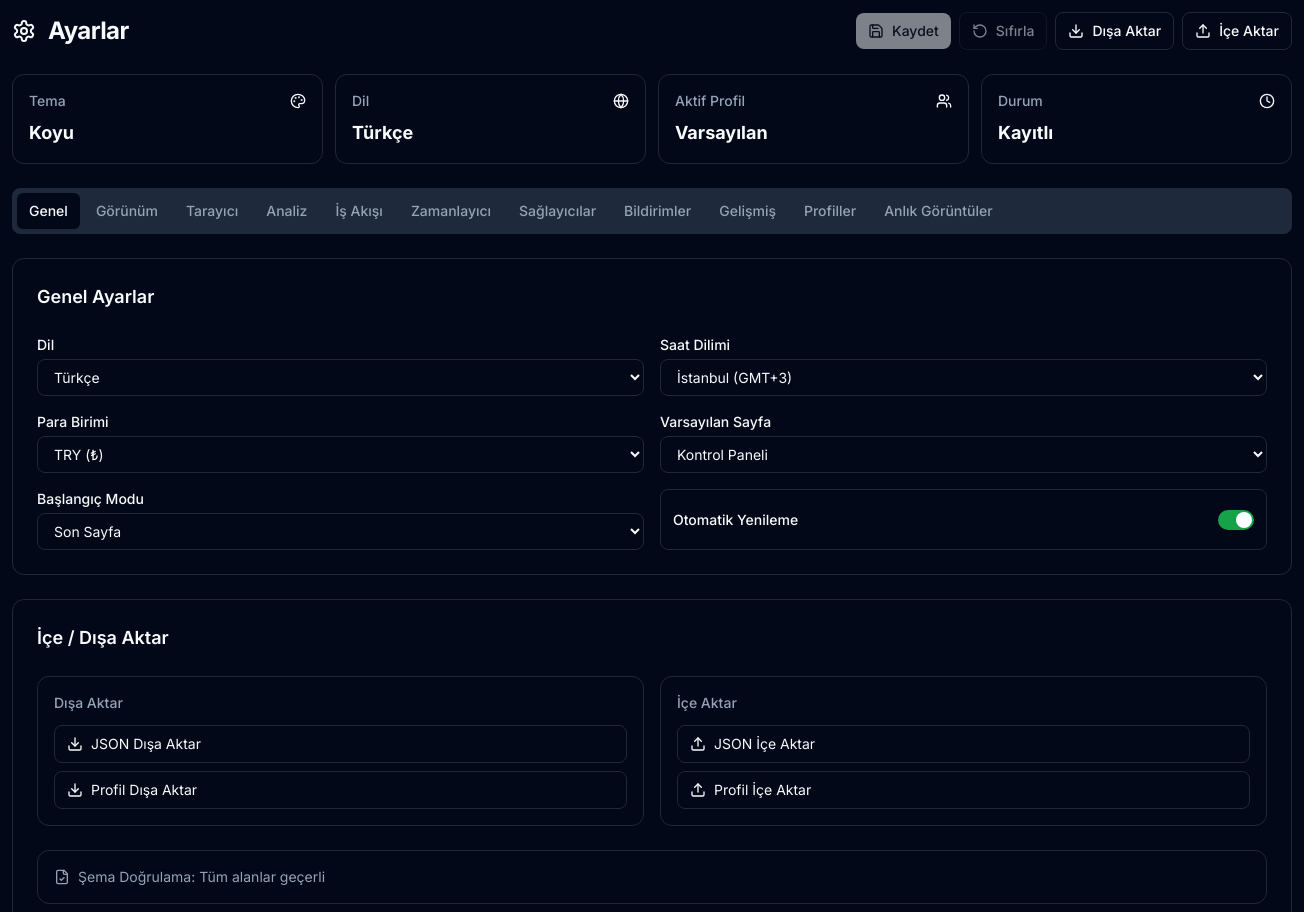
SettingsPage › switches to workflow tab
Click the button "İş Akışı" at (359, 211), box [324, 193, 395, 229]
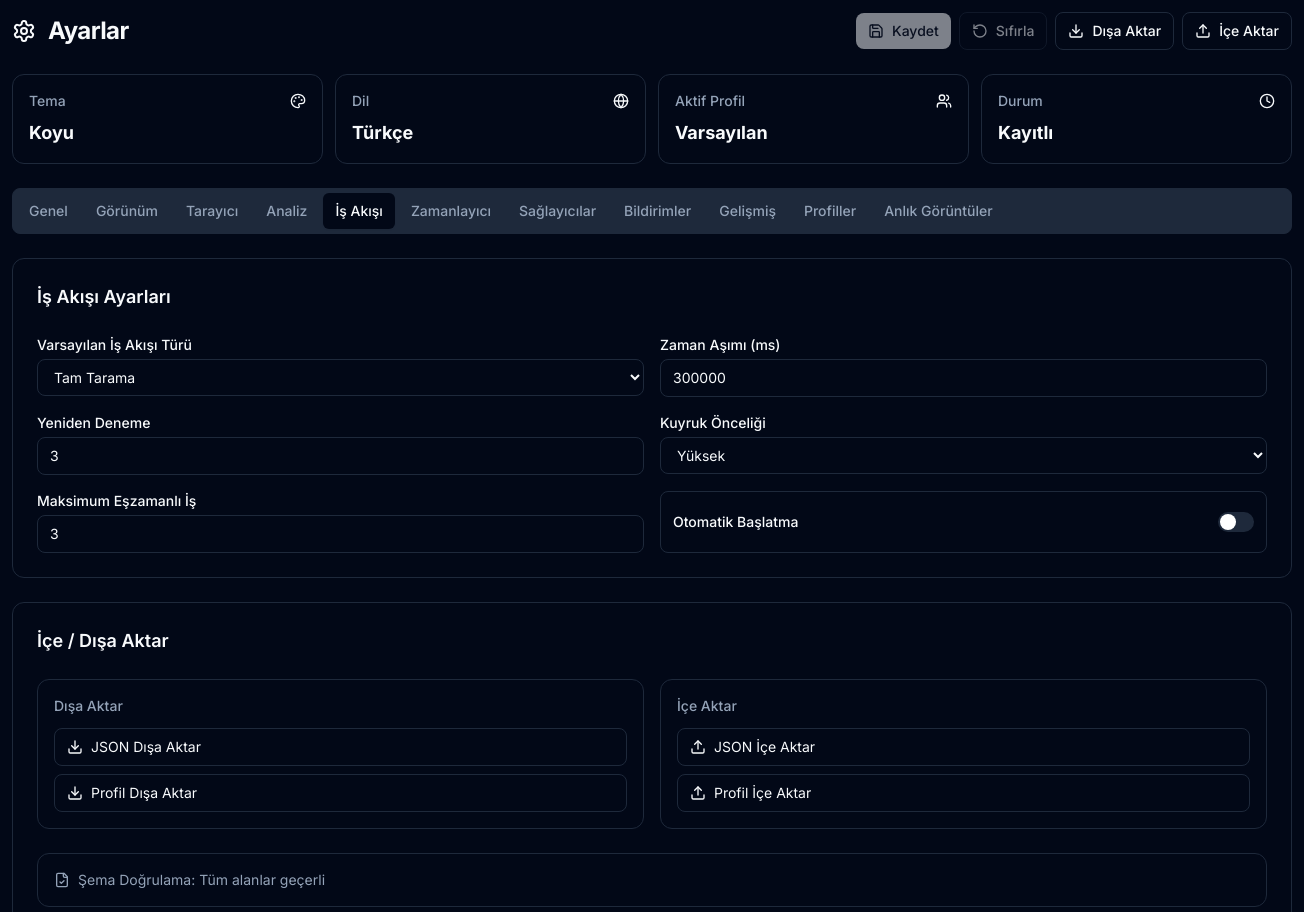
Result: the heading "İş Akışı Ayarları" is shown at [37, 286, 171, 307]
